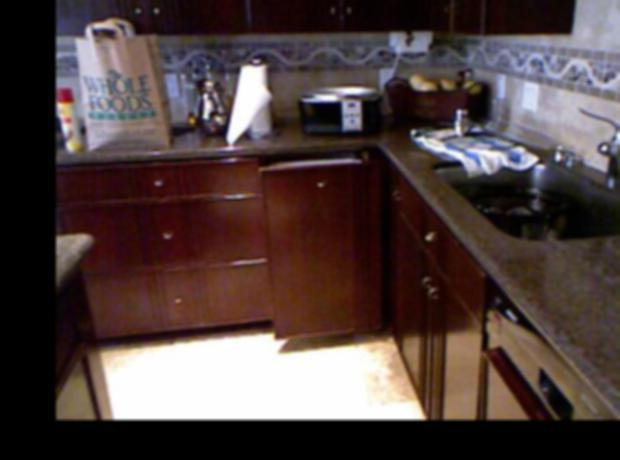Lavaplatos: (425, 116, 620, 265)
